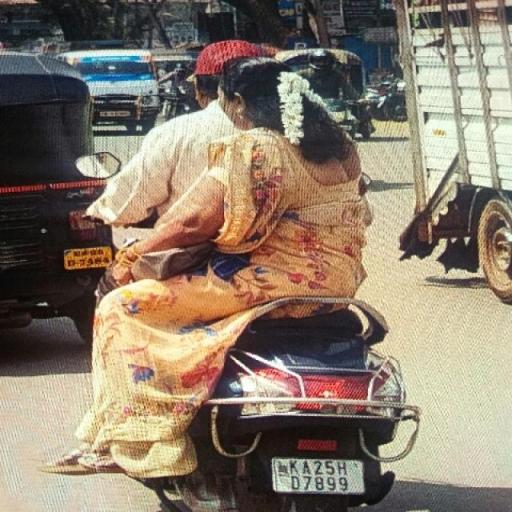bike: (62, 35, 422, 512)
numberplate: (271, 455, 367, 494)
withouthelmet: (216, 48, 308, 138), (194, 44, 240, 102)
